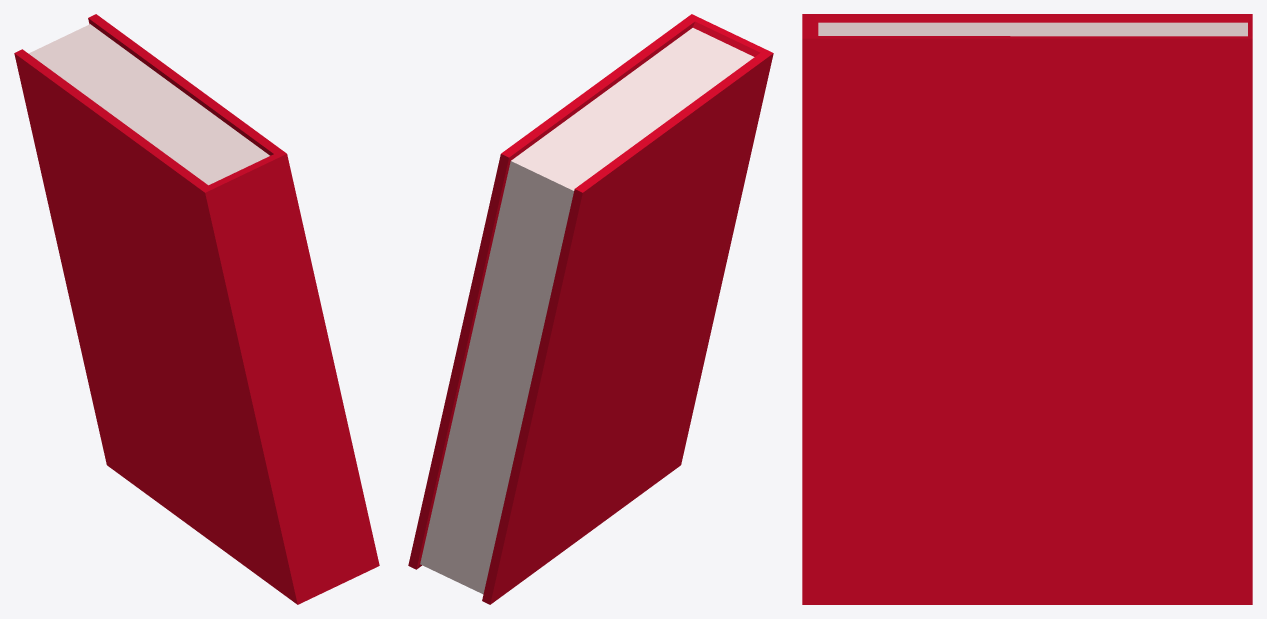
Rendered from Living_Room_book13.fbx.
3 views of the same model, side by side, from view 1: azimuth 30°, elevation 25°; view 2: azimuth 150°, elevation 25°; view 3: azimuth 270°, elevation 25° (orthographic). The views are drawn at different scales.
Visible parts, largest first — view 1: Living_Room_book13; view 2: Living_Room_book13; view 3: Living_Room_book13.
Part boxes in pixels (x1=…): Living_Room_book13: x1=14, y1=14, x2=379, y2=604; Living_Room_book13: x1=408, y1=14, x2=773, y2=604; Living_Room_book13: x1=802, y1=14, x2=1252, y2=604.
Bounding box in the file's own units: 10.12 × 19.16 × 25.13.
